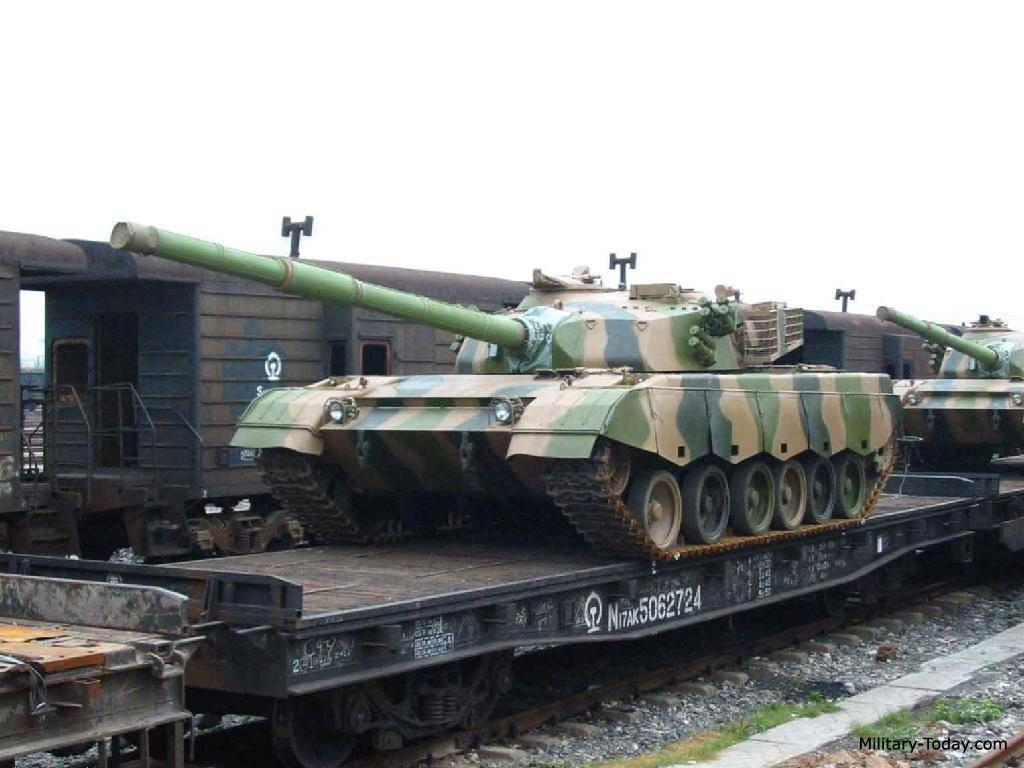tank: (109, 220, 905, 562), (876, 300, 1024, 471)
